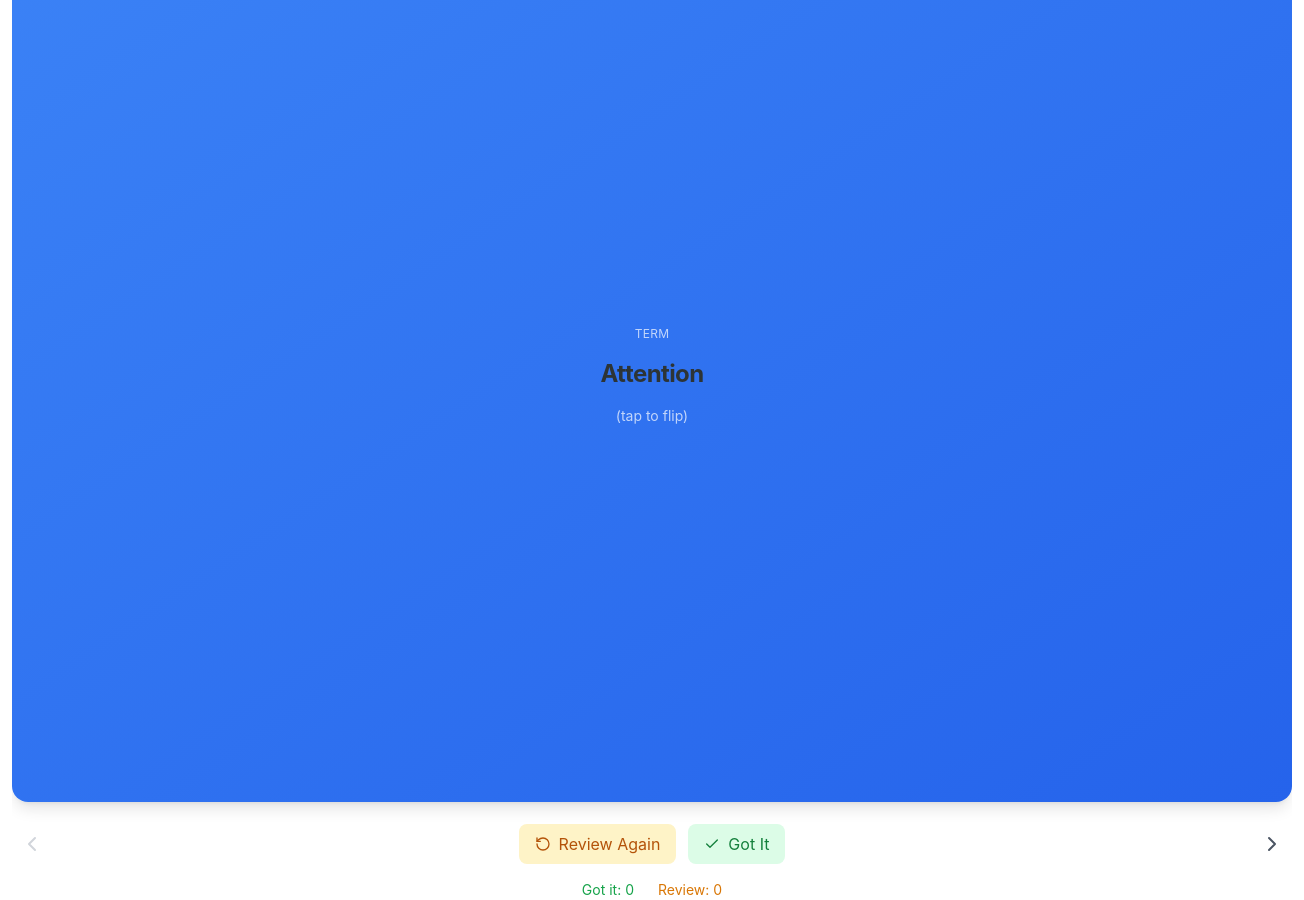
Test: FlashcardDeck › shows Got it count
(page scrolled)
expect the text "Got it: 0" is shown: met, box [582,880,634,899]
What coordinates should you click on to do the following:
click the button with test id "got-it-button"
I would click on:
 (737, 844)
Its box is [688,824,785,864].
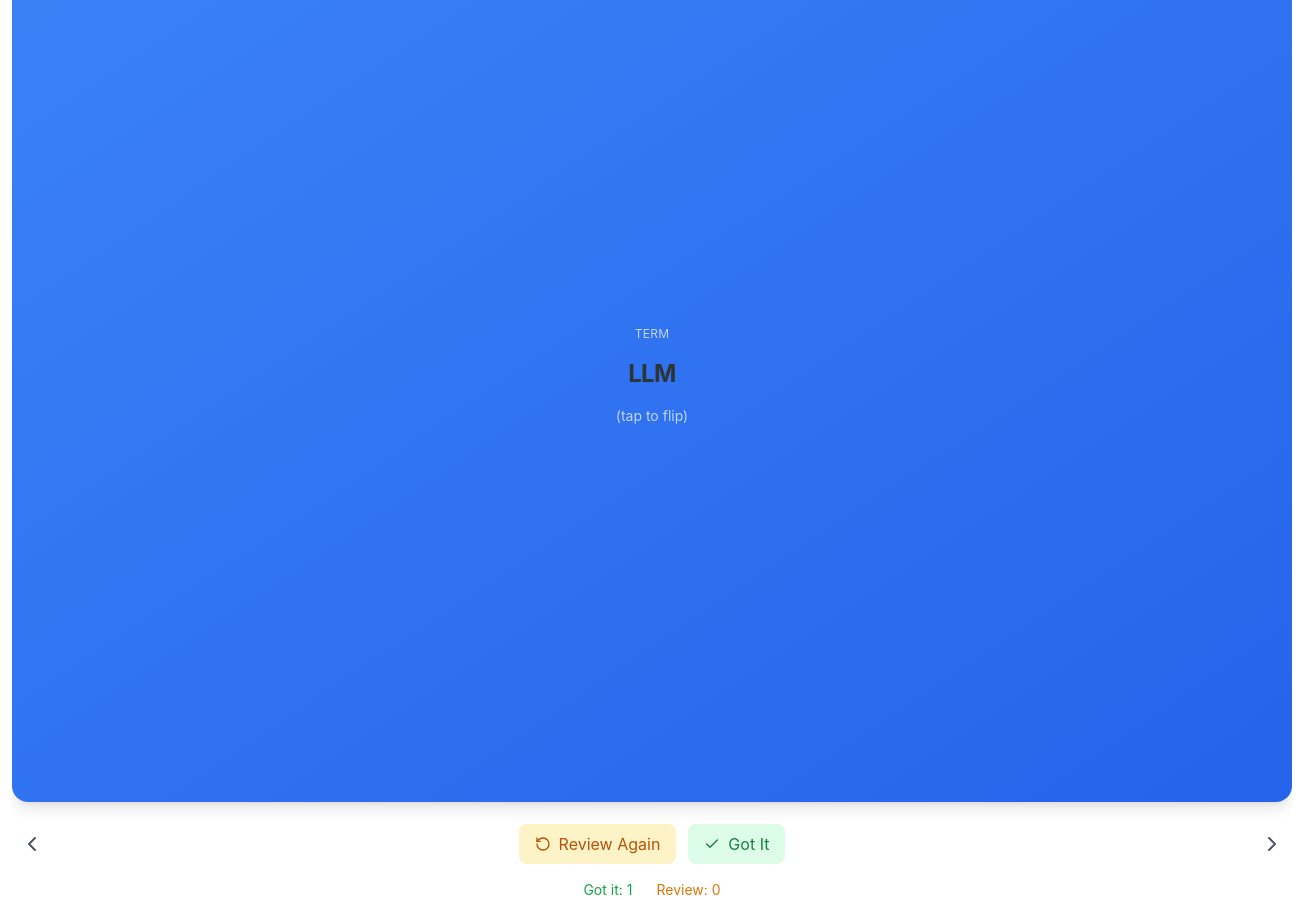
expect the text "Got it: 1" is shown: met, box [583,880,632,899]
